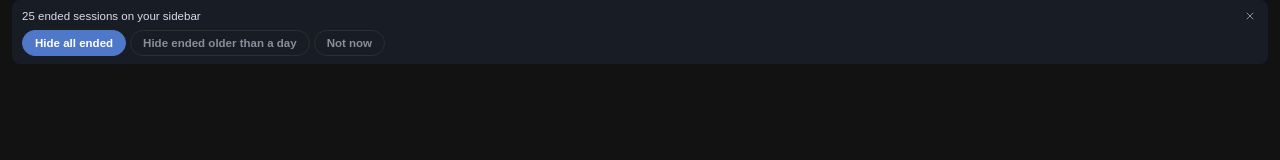
it: SessionCleanupBanner › says so when a cleanup fails, and offers no Undo
What coordinates should you click on to do the following:
click the button "Hide all ended"
I would click on:
 (74, 43)
Its box is [22,30,126,56].
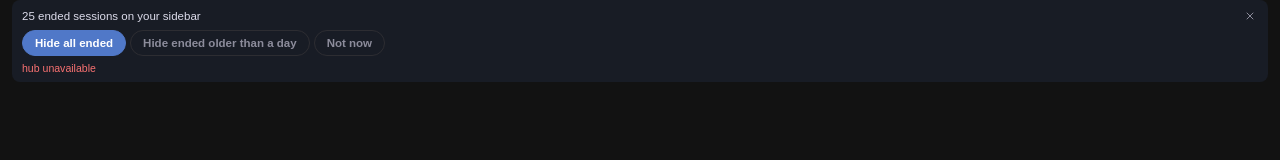
Now the message reads "hub unavailable", box [22,62,96,74]
